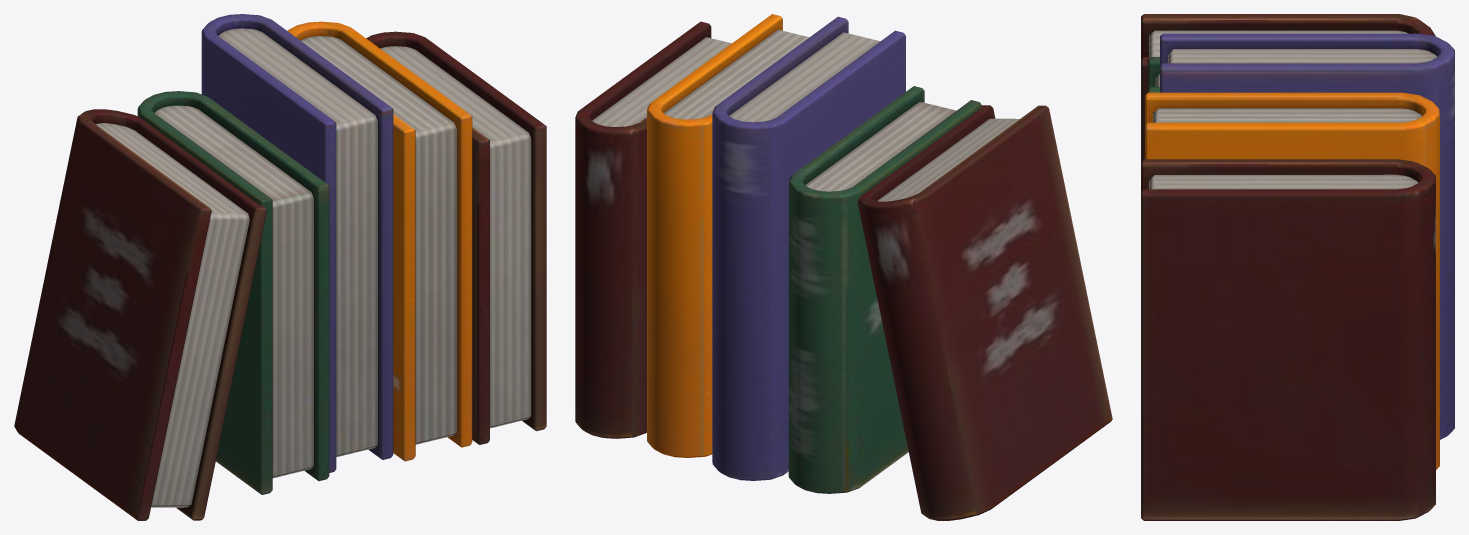
Rendered from SM_Book001_stack02.glb.
The picture shows the model from 3 angles, left to right: view 1: azimuth 30°, elevation 25°; view 2: azimuth 150°, elevation 25°; view 3: azimuth 270°, elevation 25°; orthographic projection. The views are drawn at different scales.
Parts seen in each view (by area): view 1: SM_Book001_stack02; view 2: SM_Book001_stack02; view 3: SM_Book001_stack02.
Part boxes in pixels (box(x1,y1,x2,y2)): SM_Book001_stack02: box(14, 14, 546, 520); SM_Book001_stack02: box(575, 14, 1112, 520); SM_Book001_stack02: box(1141, 14, 1454, 520).
Bounding box in the file's own units: 0.5373 × 0.4488 × 0.3312.
1 material, 1 textured.
